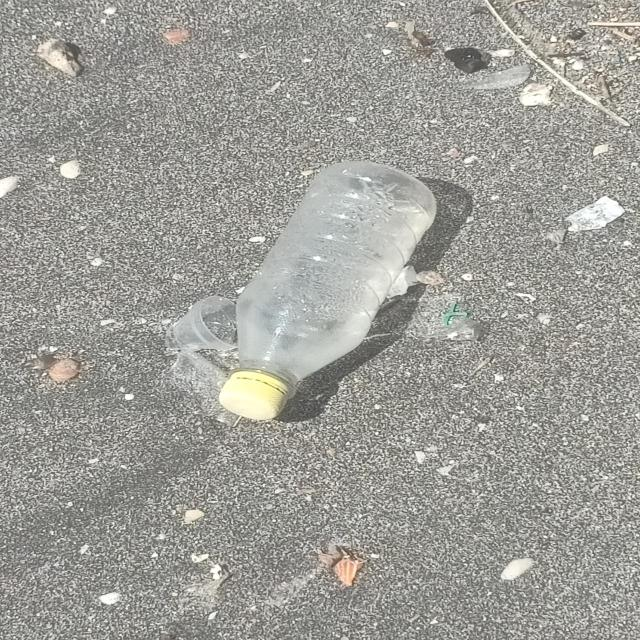plastic_waste: (219, 161, 440, 422)
